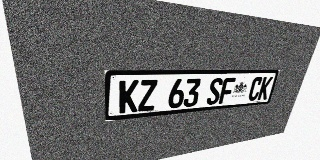3: (183, 78, 201, 107)
6: (167, 79, 186, 109)
C: (247, 77, 263, 101)
F: (218, 78, 236, 104)
K: (119, 80, 139, 114), (257, 77, 273, 100)
S: (206, 78, 224, 105)
Z: (138, 79, 157, 112)
